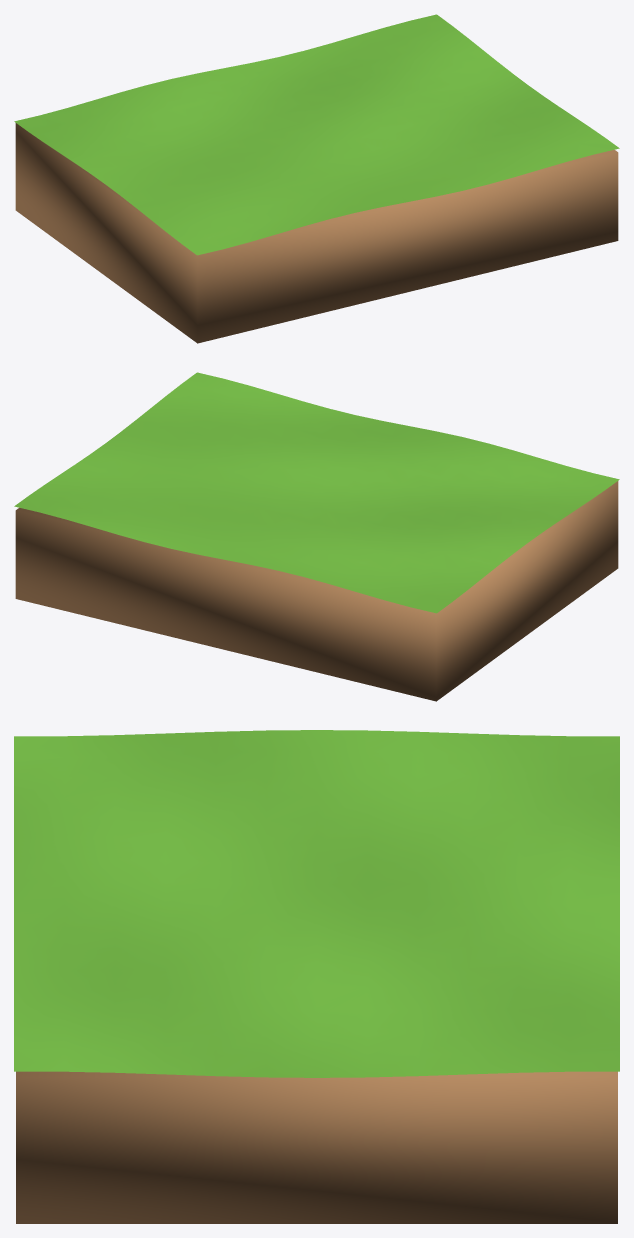
Rendered from lawn_block.glb.
3 views of the same model, one above another, from view 1: azimuth 30°, elevation 25°; view 2: azimuth 150°, elevation 25°; view 3: azimuth 270°, elevation 25° (orthographic). The views are drawn at different scales.
Parts seen in each view (by area): view 1: Lawn_Block_Top, Lawn_Block_Body; view 2: Lawn_Block_Top, Lawn_Block_Body; view 3: Lawn_Block_Top, Lawn_Block_Body.
Part boxes in pixels (x1=…): Lawn_Block_Top: x1=14, y1=14, x2=619, y2=255; Lawn_Block_Body: x1=15, y1=123, x2=618, y2=343; Lawn_Block_Top: x1=14, y1=372, x2=619, y2=613; Lawn_Block_Body: x1=15, y1=481, x2=618, y2=701; Lawn_Block_Top: x1=14, y1=730, x2=619, y2=1077; Lawn_Block_Body: x1=16, y1=1071, x2=617, y2=1223.
Bounding box in the file's own units: 8 × 1.68 × 6.
